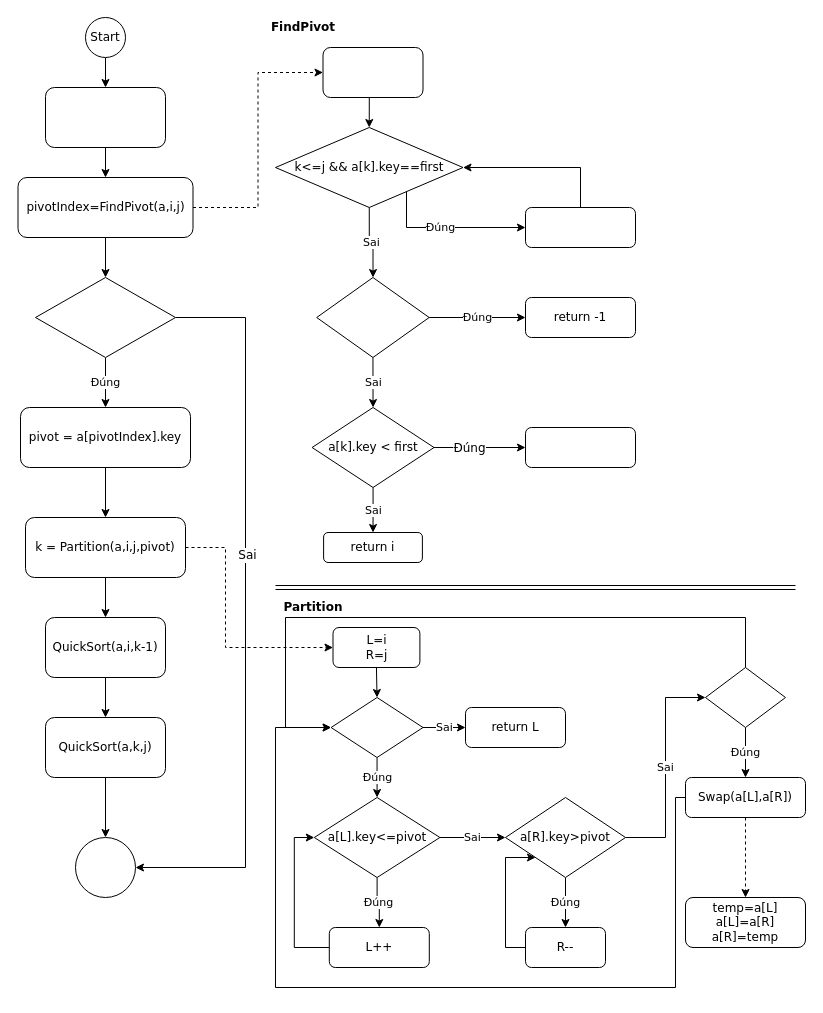
The diagram is 823 pixels wide and 1013 high, and some of its shapes have lost their labels. Each missing label, with the centre of its shape:
"End" belongs at point 105,867.
"k = i+1 first = a[i].key" belongs at point 372,72.
"k++" belongs at point 580,227.
"k>j" belongs at point 372,317.
"L<=R" belongs at point 376,727.
"L<R" belongs at point 745,697.
"pivotIndex != -1" belongs at point 105,317.
"QuickSort(a,i,j)" belongs at point 105,117.
"return k" belongs at point 580,447.
